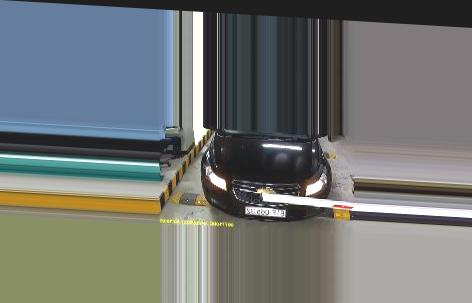License_Plate: (242, 202, 287, 221)
